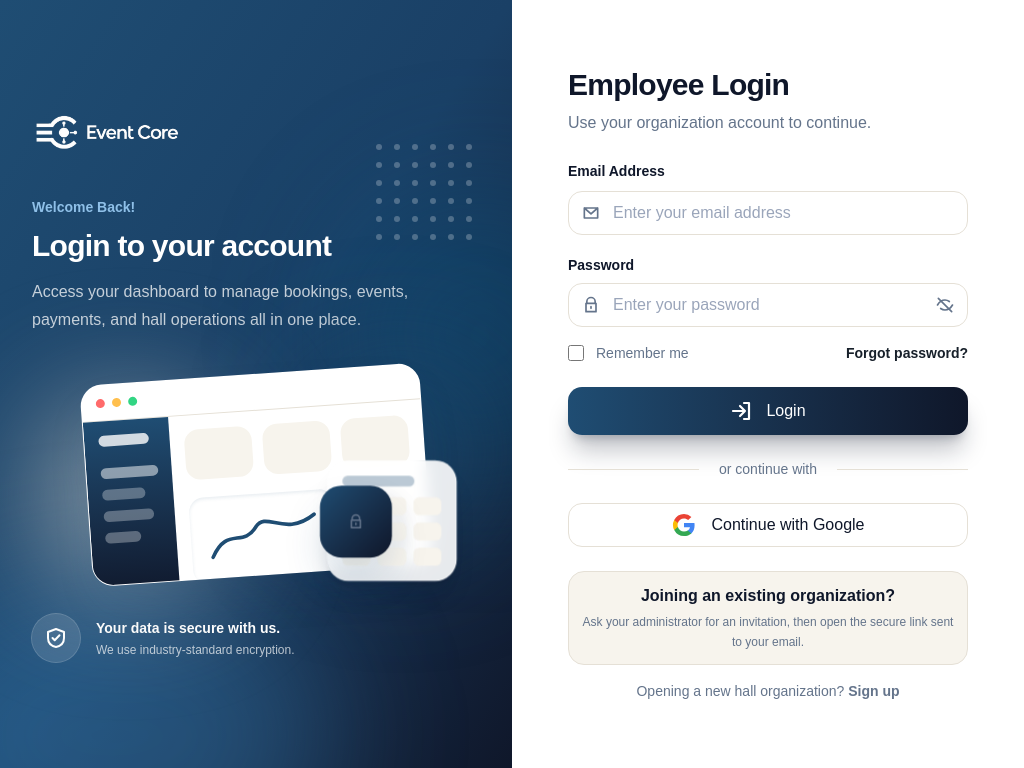
Test: LoginCard failure paths › rejects an email-only submission
In the field labelled "Email Address": (784, 213) x1=613 y1=201 x2=955 y2=225, type "owner@example.com"
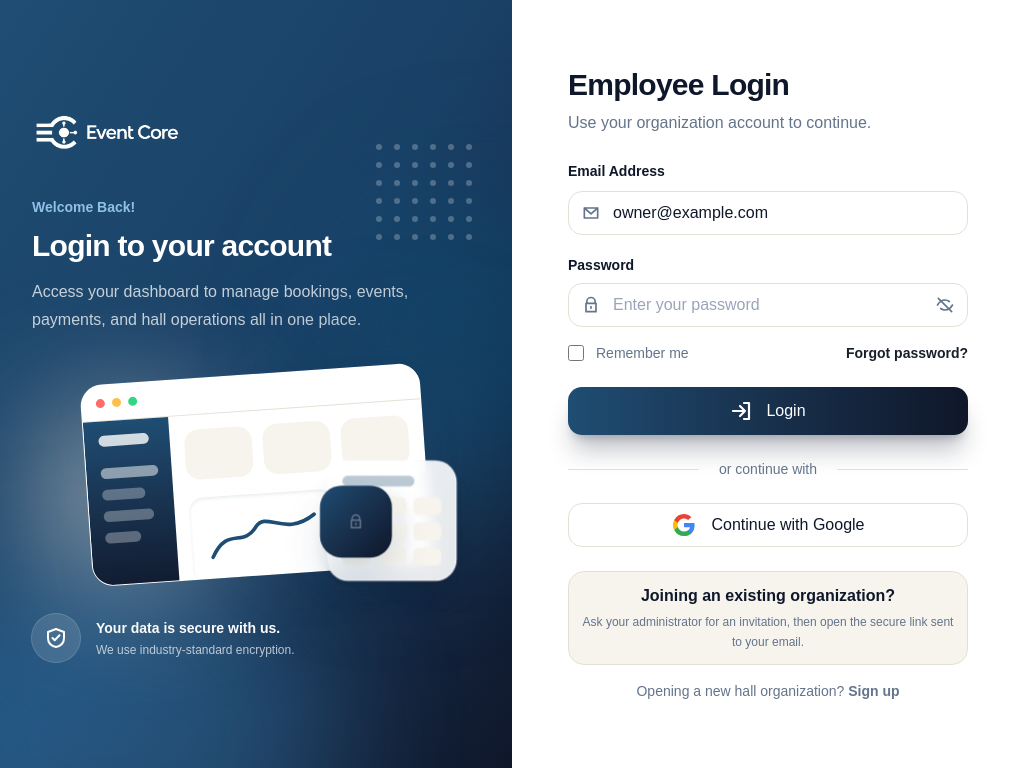
Submit the form "Login", box x1=568 y1=159 x2=968 y2=701
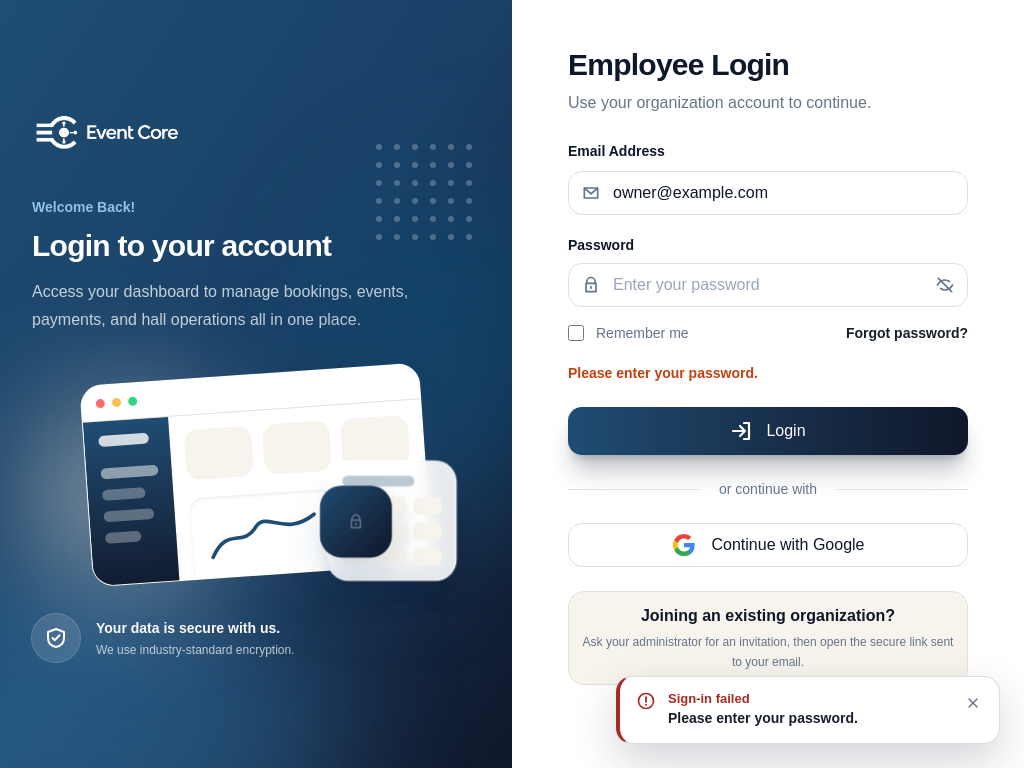
Now the text "Please enter your password." is shown 2 times, box x1=568 y1=365 x2=758 y2=381; x1=668 y1=710 x2=858 y2=726
